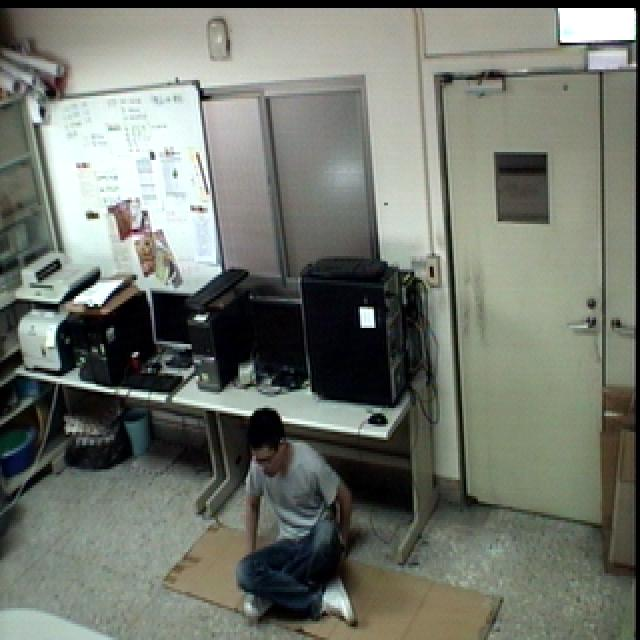sit: (226, 398, 362, 633)
